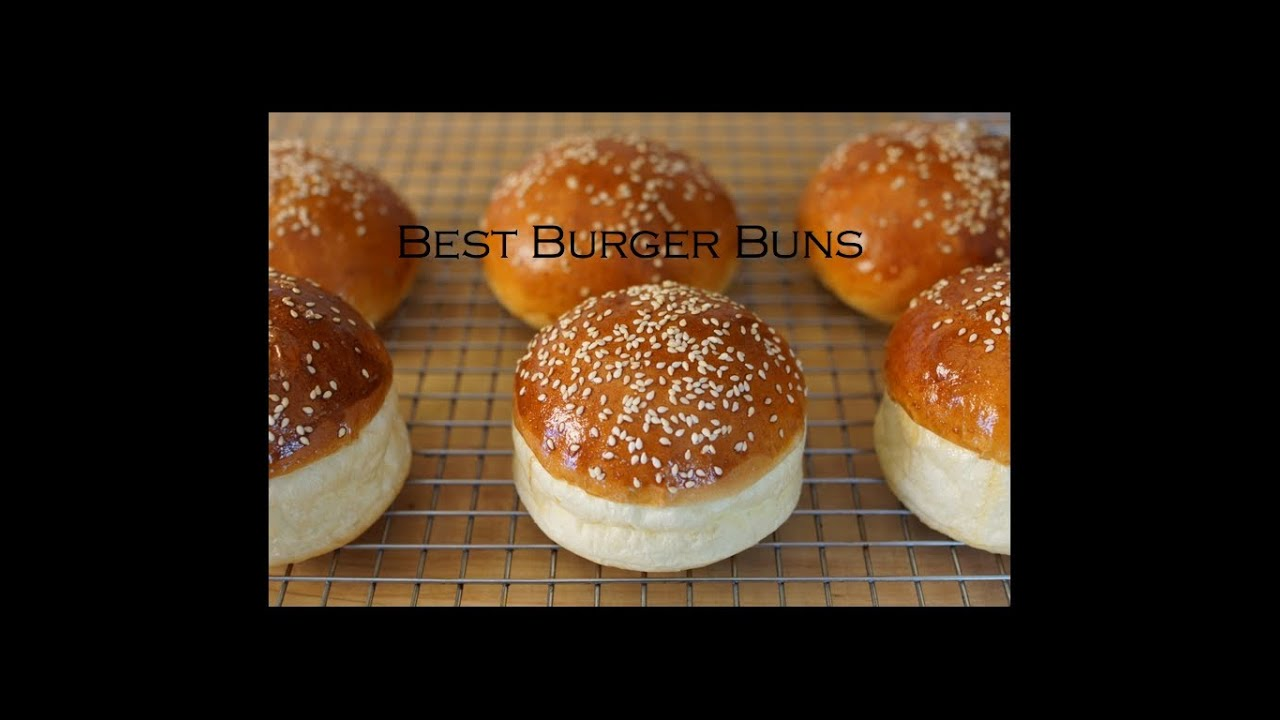hamburger_buns: (490, 268, 840, 577), (474, 122, 774, 323), (871, 262, 1008, 581)
